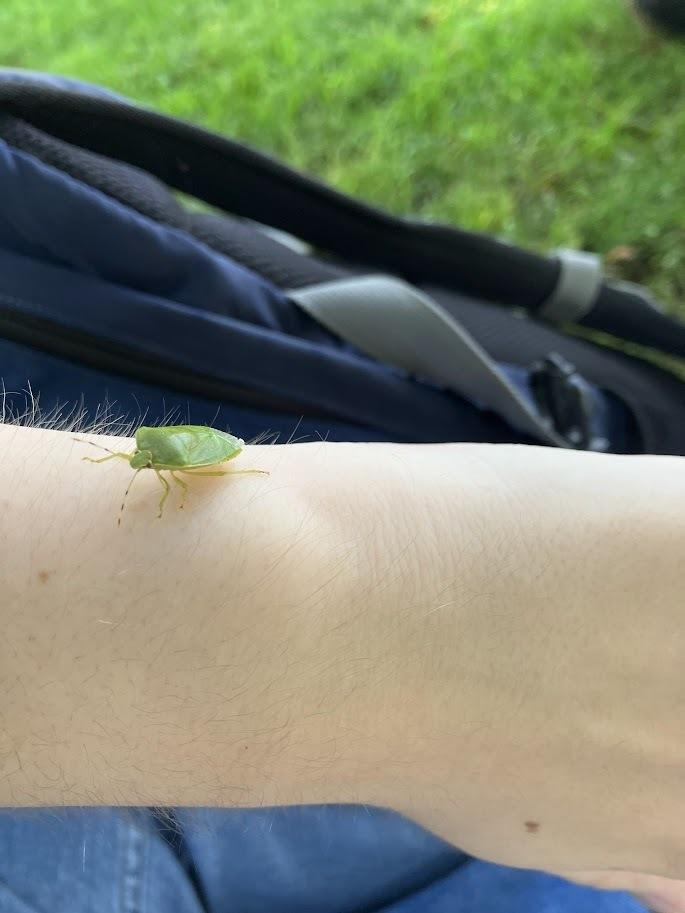stink_bugs: (40, 335, 334, 585)
